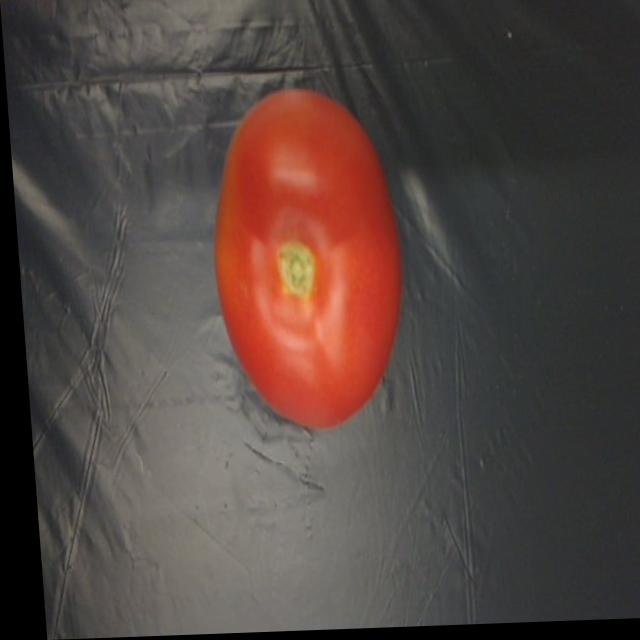kirmizi: (188, 76, 414, 440)
